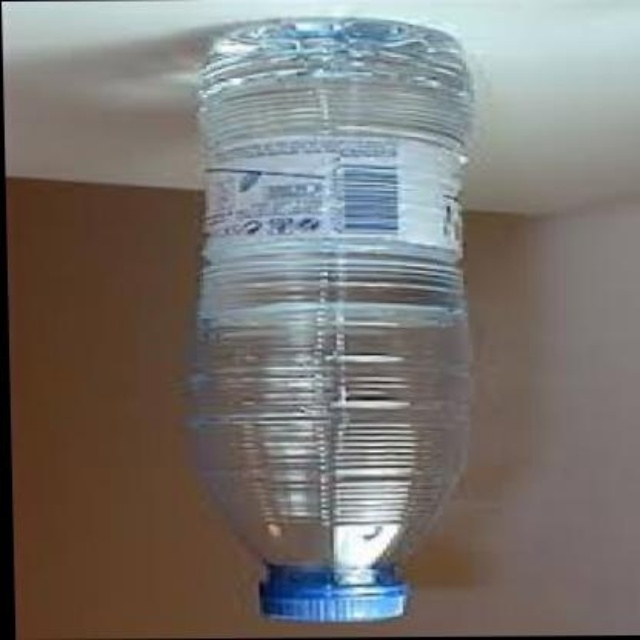trash: (197, 18, 469, 620)
